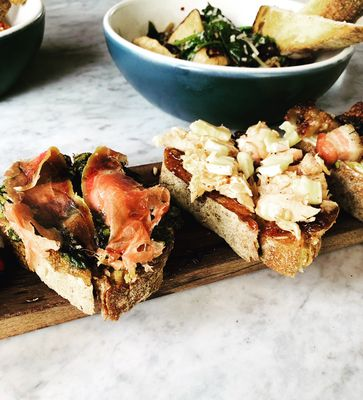soup: (156, 116, 354, 278), (0, 145, 176, 322)
sushi: (102, 0, 363, 129), (0, 0, 46, 98)
